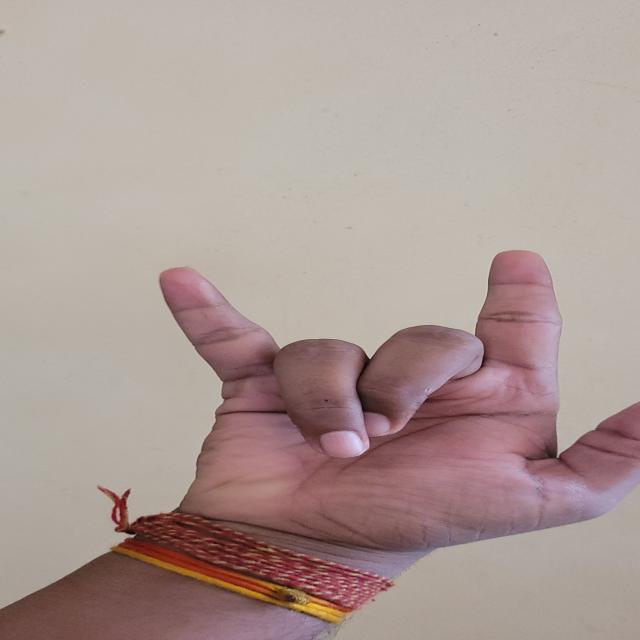i like you: (97, 238, 640, 616)
